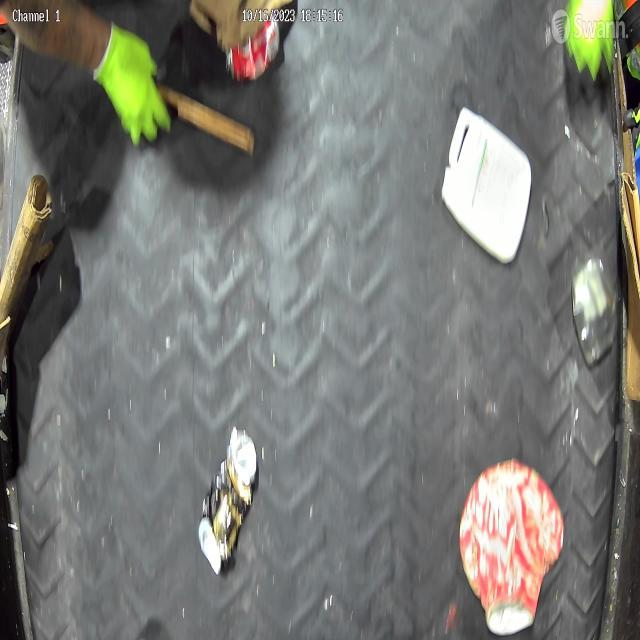can: (198, 426, 258, 576), (572, 259, 618, 367), (226, 19, 280, 82)
milk_jug: (441, 107, 533, 262)
